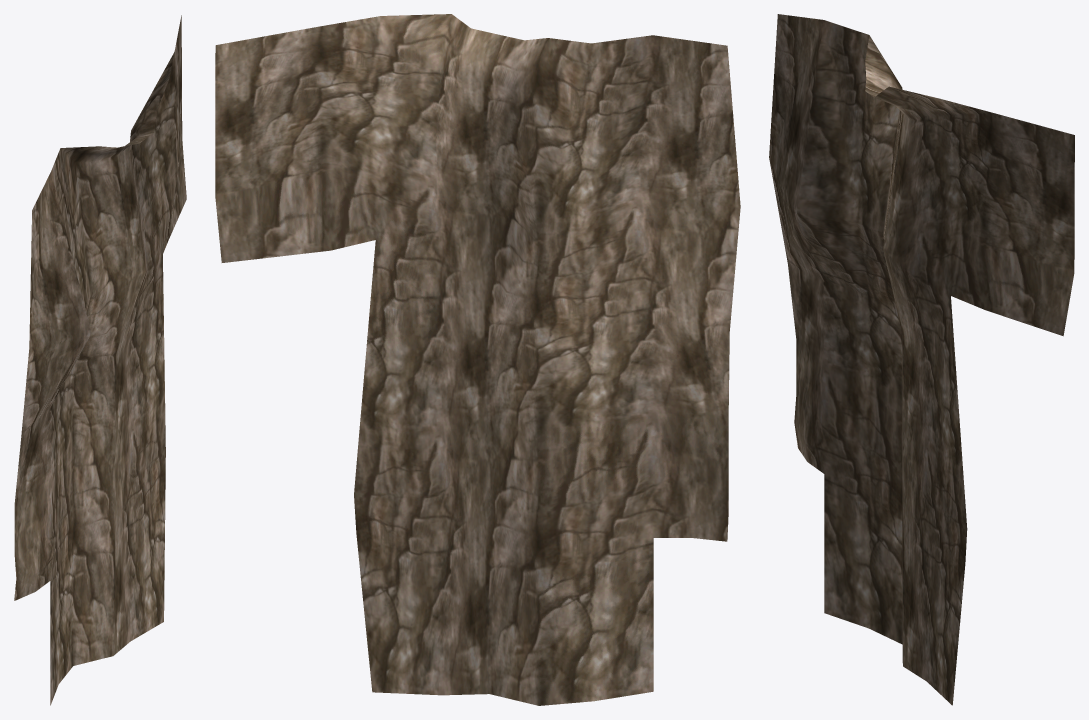
The model's file is OVERHILL_A_01_OBJECT42.fbx.
The picture shows the model from 3 angles, left to right: view 1: azimuth 30°, elevation 25°; view 2: azimuth 150°, elevation 25°; view 3: azimuth 270°, elevation 25°; orthographic projection. The views are drawn at different scales.
Visible parts, largest first — view 1: OVERHILL_A_01_OBJECT42; view 2: OVERHILL_A_01_OBJECT42; view 3: OVERHILL_A_01_OBJECT42.
Boxes of the visible parts, x1=… form: OVERHILL_A_01_OBJECT42: x1=14, y1=15, x2=186, y2=705; OVERHILL_A_01_OBJECT42: x1=215, y1=14, x2=740, y2=705; OVERHILL_A_01_OBJECT42: x1=769, y1=14, x2=1074, y2=705.
Bounding box in the file's own units: 87682 × 157287 × 71442.
Materials: 1 (1 with a texture image).
